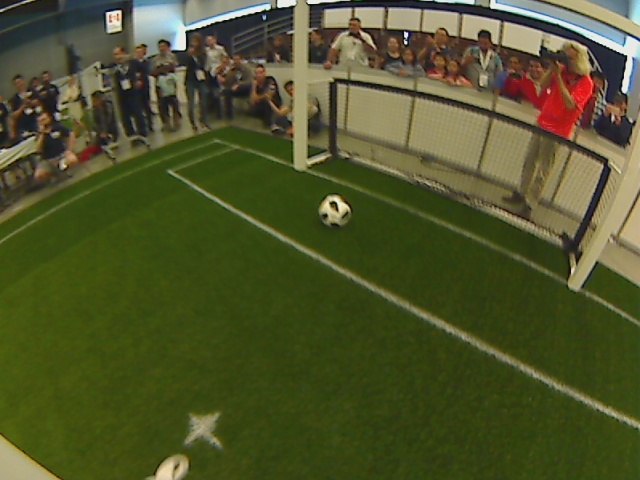ball: (317, 194, 352, 227)
